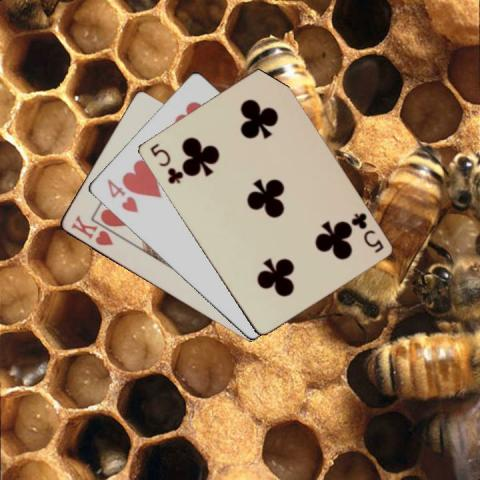4h: (103, 176, 139, 215)
5c: (347, 209, 385, 254), (147, 140, 183, 185)
Kh: (67, 212, 115, 247)
